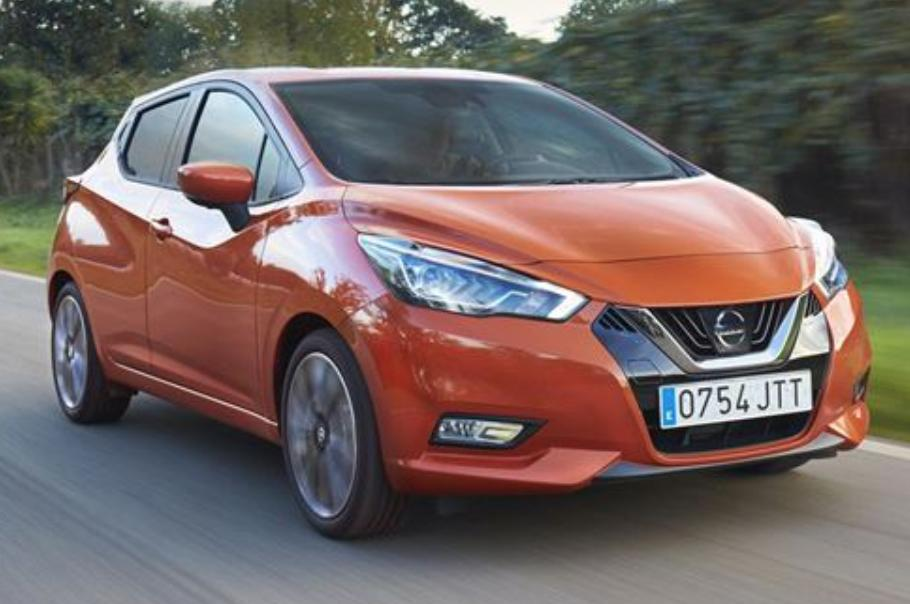car: (29, 51, 897, 568)
